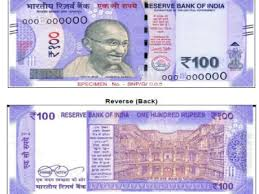hundred: (22, 14, 234, 72)
